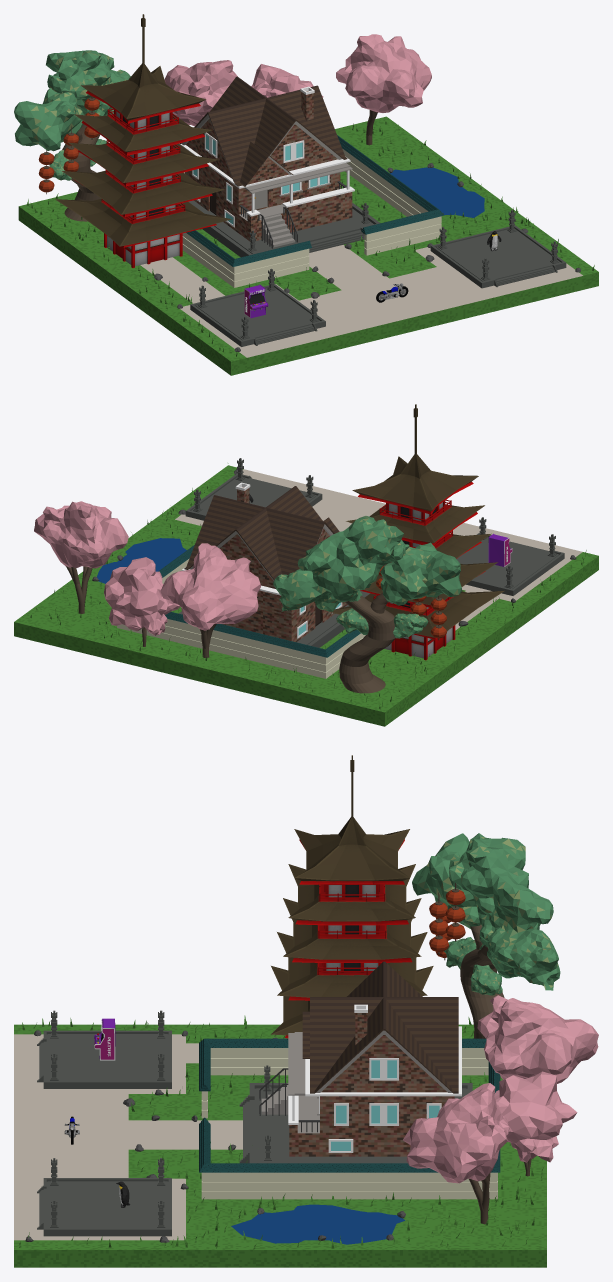
3 views of the same model, one above another, from view 1: azimuth 30°, elevation 25°; view 2: azimuth 150°, elevation 25°; view 3: azimuth 270°, elevation 25° (orthographic). The views are drawn at different scales.
Parts seen in each view (by area): view 1: Cube.005, Cube.117, OBJRANDOM_ARCADE; view 2: Cube.005, Cube.117, OBJRANDOM_ARCADE; view 3: Cube.005, Cube.117, OBJRANDOM_ARCADE.
Boxes of the visible parts, <box> form: Cube.005: <box>14,14,598,375</box>; Cube.117: <box>179,76,354,248</box>; OBJRANDOM_ARCADE: <box>244,284,268,318</box>; Cube.005: <box>14,404,598,726</box>; Cube.117: <box>181,482,347,642</box>; OBJRANDOM_ARCADE: <box>488,533,512,566</box>; Cube.005: <box>14,755,598,1267</box>; Cube.117: <box>259,961,461,1156</box>; OBJRANDOM_ARCADE: <box>94,1018,115,1060</box>.
Size of the model in its own units: 4528 by 2690 by 4389.
47 materials, 6 textured.
